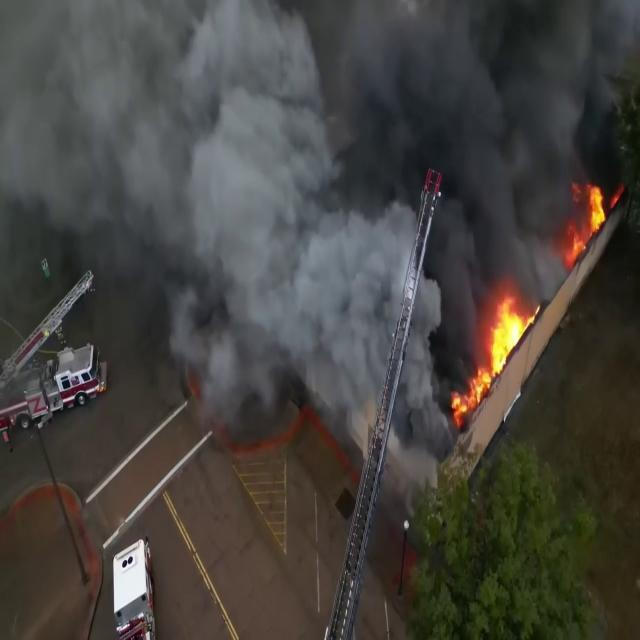Fire: (472, 285, 540, 395), (571, 173, 611, 263)
Smoke: (0, 0, 634, 421)
